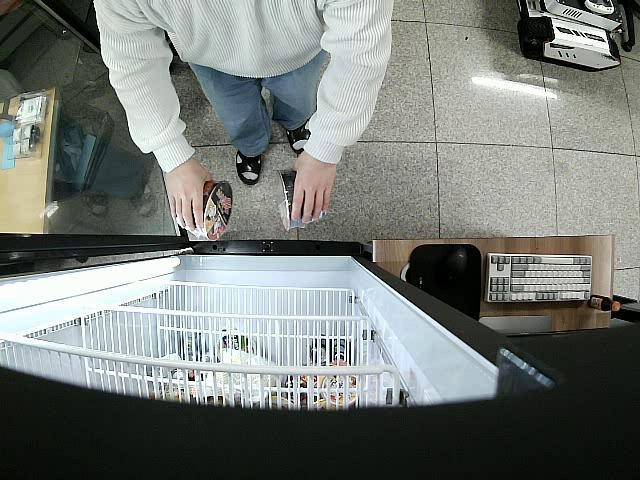07_buldak_L: (273, 168, 324, 231), (181, 182, 232, 241)
